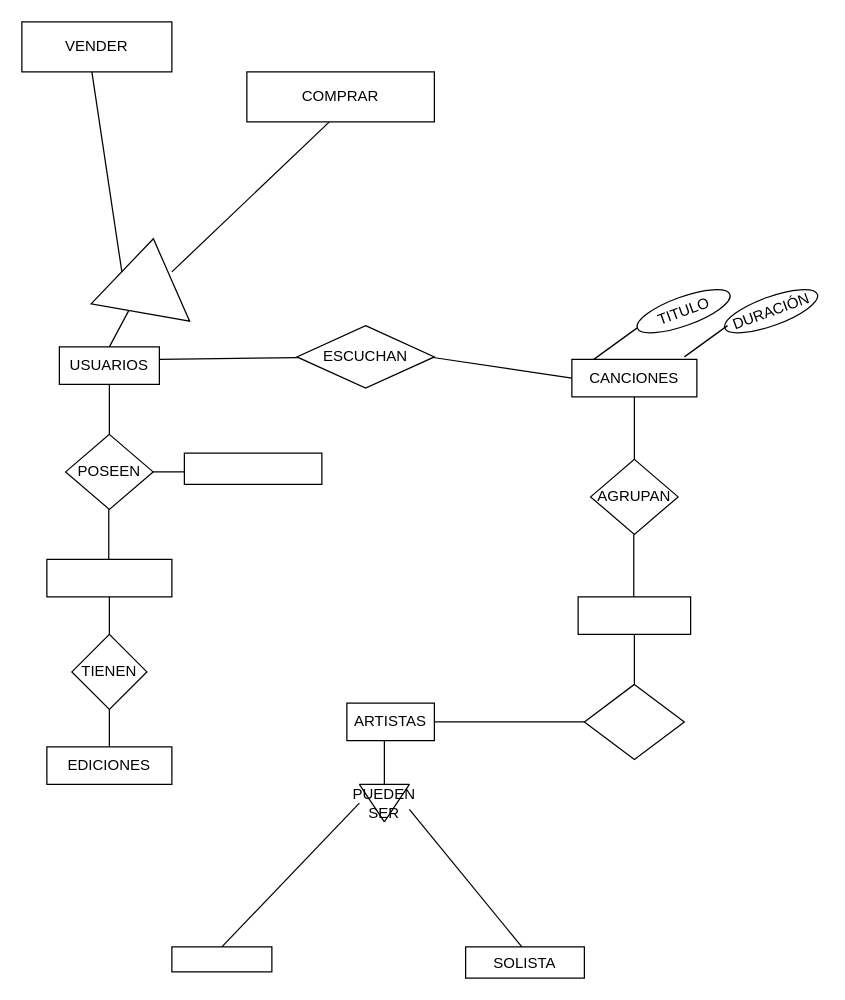
Some shapes in this 845 by 1000 pixel diagram are drawn without their labels. Each missing label, with the centre of its shape:
"ALBUMES" belongs at (x=634, y=615).
"COLECCIONES" belongs at (x=252, y=468).
"DISCOS" belongs at (x=109, y=577).
"GRABADOS" belongs at (x=633, y=721).
"GRUPO" belongs at (x=221, y=959).
"PUEDEN" belongs at (x=146, y=275).
